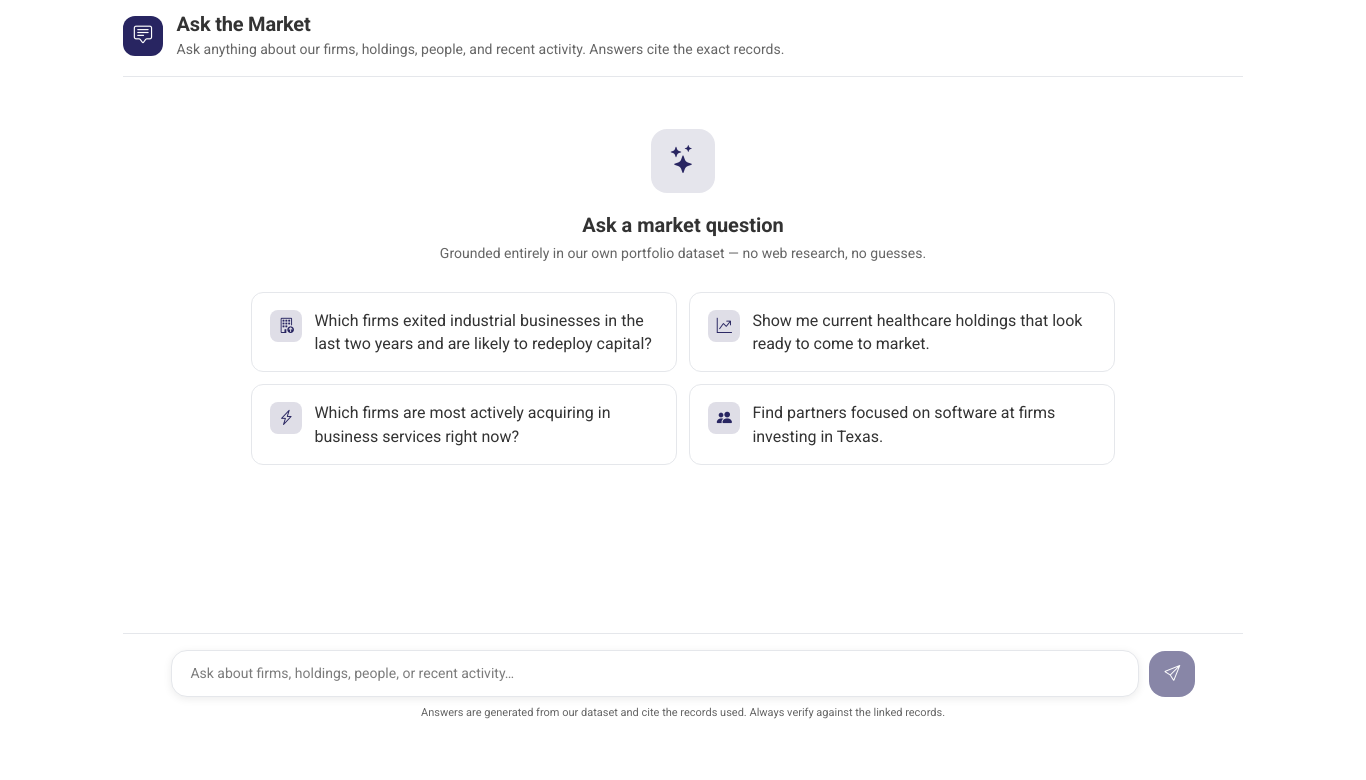
Test: PEAskPage › renders rate-limit error card
The image size is (1366, 780).
Type "another question" into the text box with test id "qa-input" at (655, 673), box [171, 650, 1139, 697]
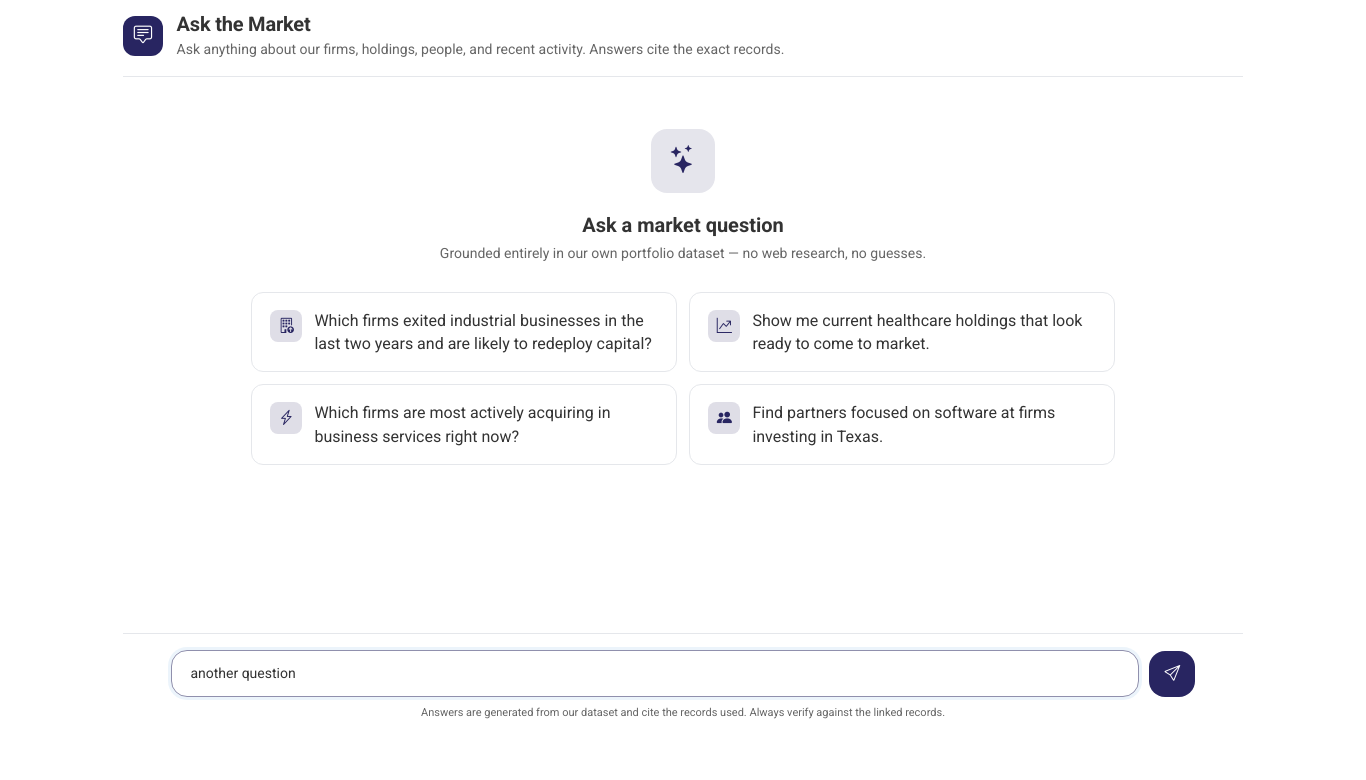
Click the button with test id "qa-send" at (1172, 674), box [1149, 651, 1195, 697]
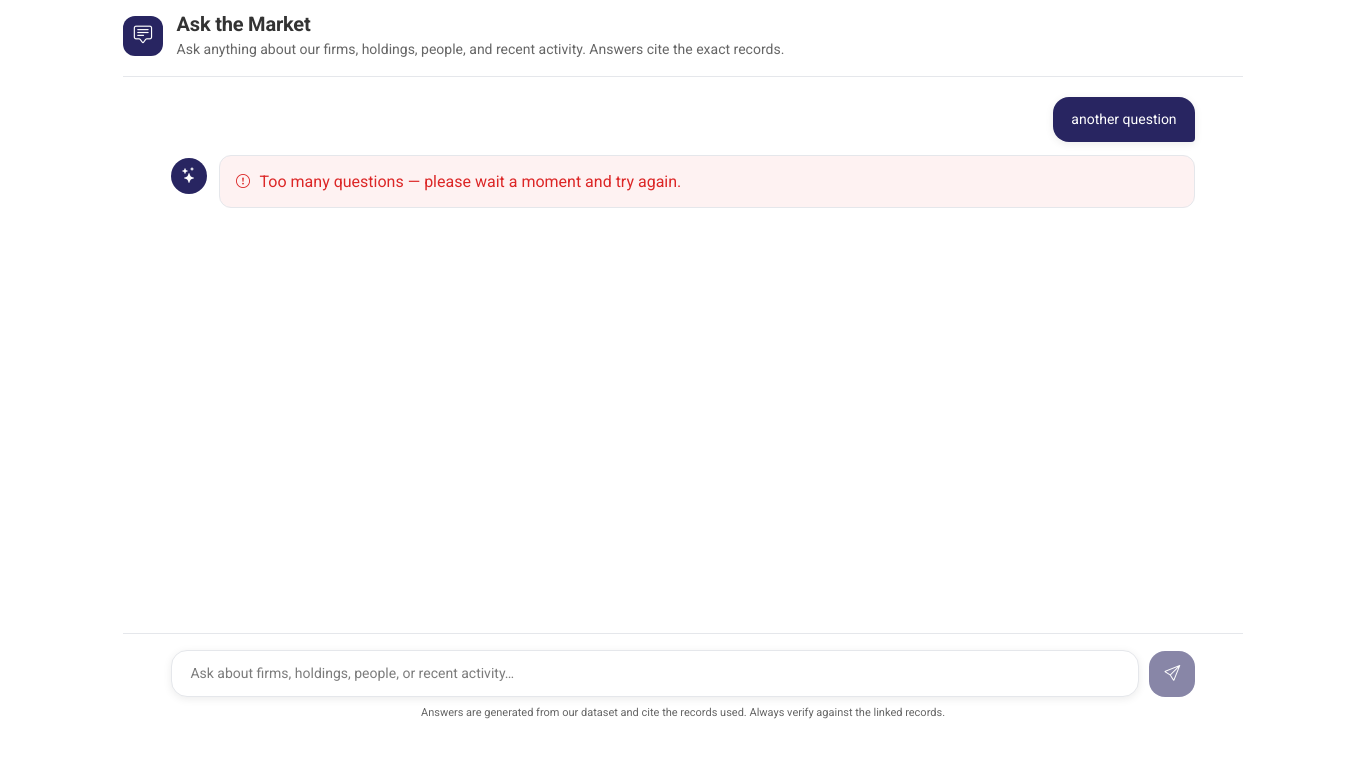
Check: the message with test id "qa-error" shows "Too many questions", box [260, 172, 681, 191]
